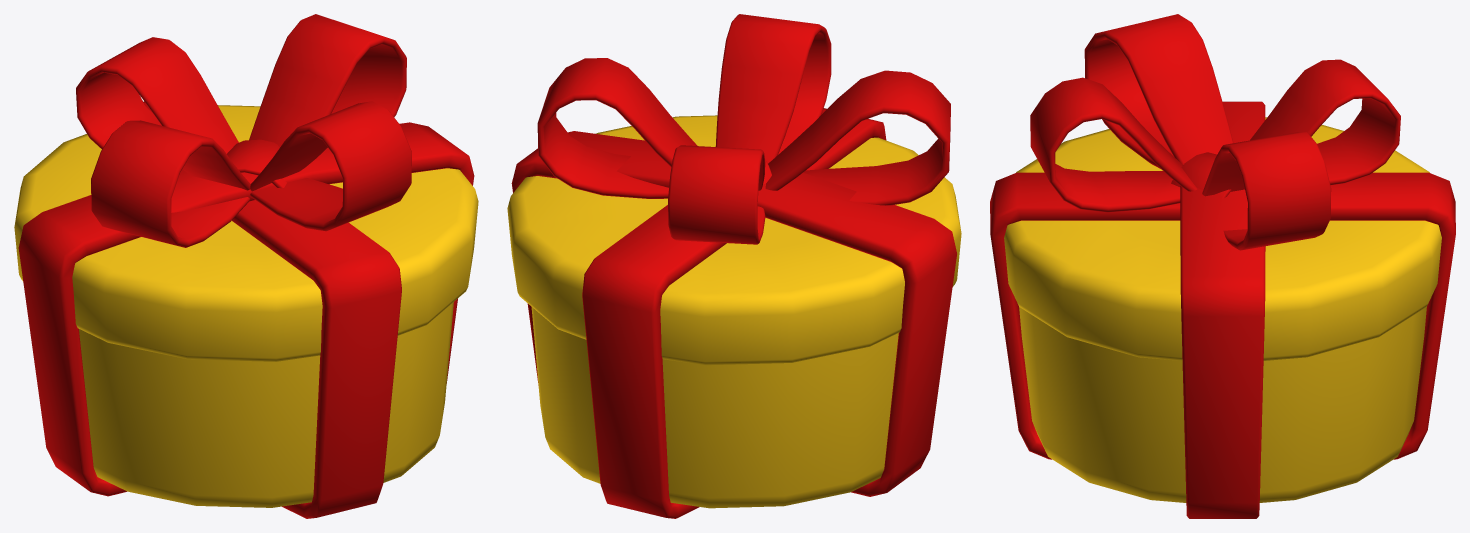
The model's file is giftbox04.fbx.
3 views of the same model, side by side, from view 1: azimuth 30°, elevation 25°; view 2: azimuth 150°, elevation 25°; view 3: azimuth 270°, elevation 25° (orthographic). The views are drawn at different scales.
Parts seen in each view (by area): view 1: GIFTBOX_004; view 2: GIFTBOX_004; view 3: GIFTBOX_004.
Part boxes in pixels (x1,y1,x2,y2): GIFTBOX_004: [14, 14, 478, 518]; GIFTBOX_004: [507, 14, 961, 518]; GIFTBOX_004: [990, 14, 1455, 518].
Bounding box in the file's own units: 36.95 × 33.21 × 36.95.
